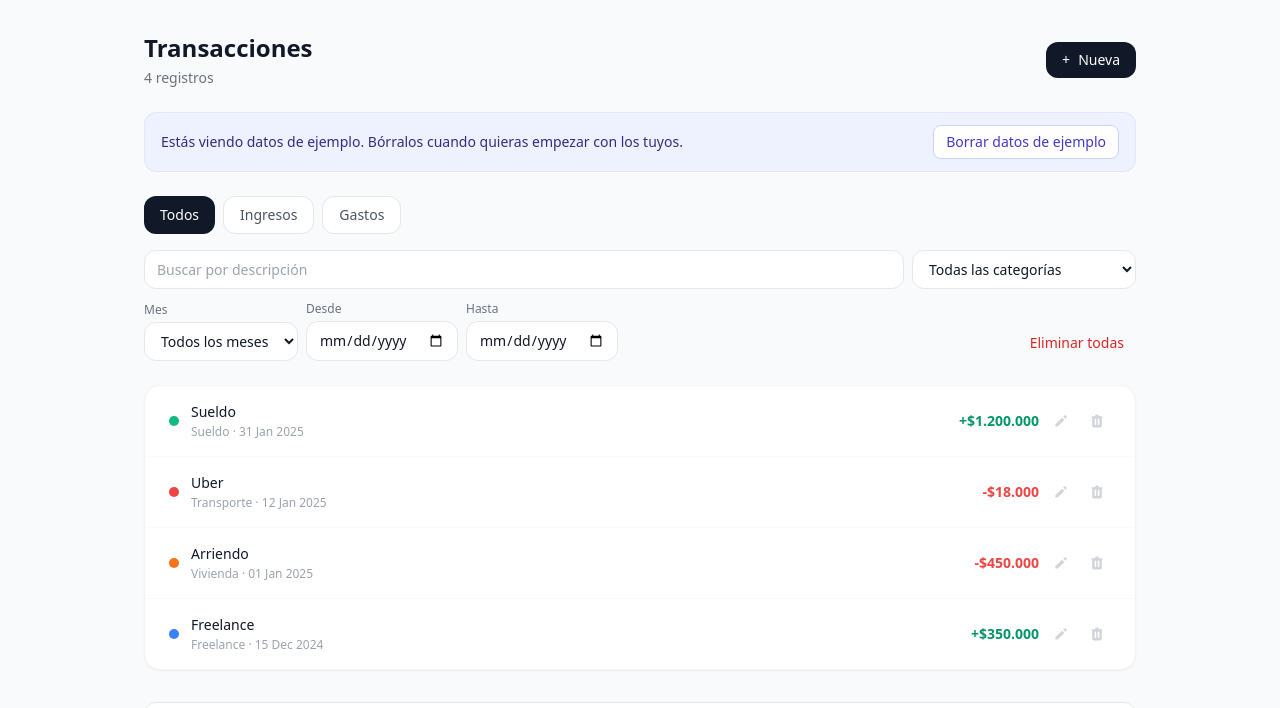
Test: TransactionsComponent › search and category filter › should explain when nothing matches
The width and height of the screenshot is (1280, 708).
Type "zzz" into the search field with id "search".
click(524, 270); type("zzz")  # box [144,250,904,289]
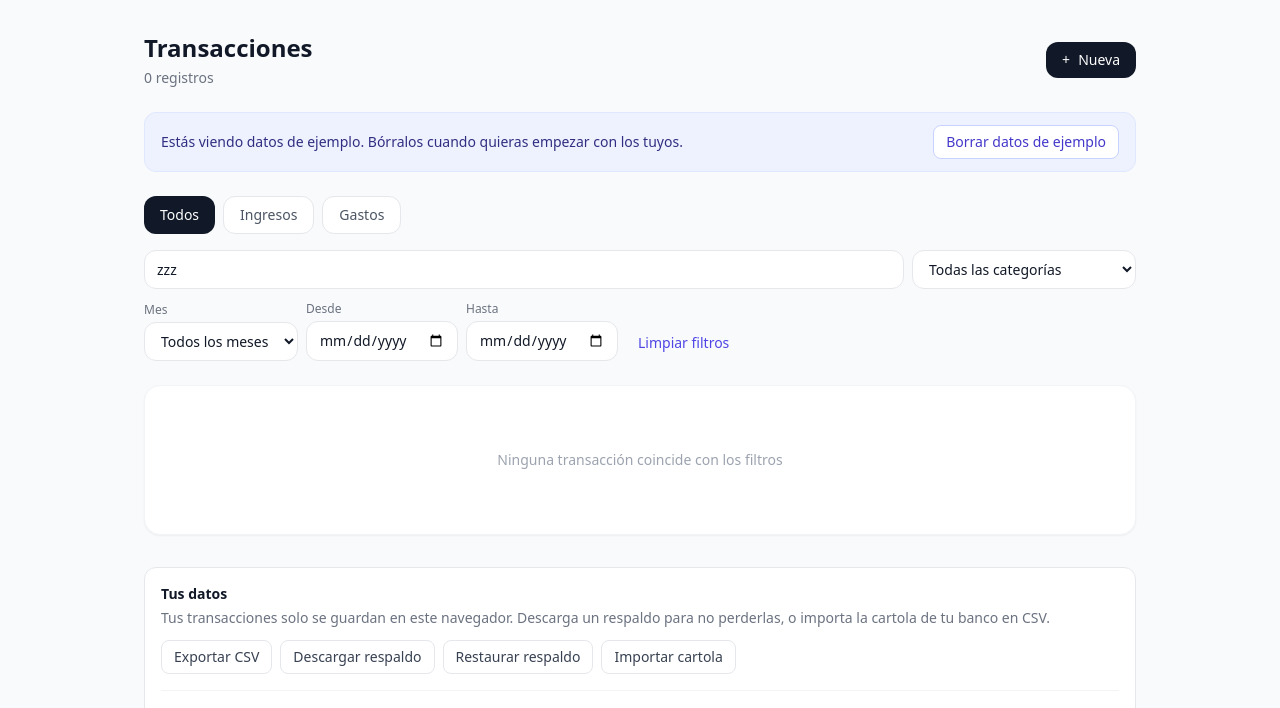
Check: the text "Ninguna transacción coincide con los filtros" is shown, box [497,450,783,469]
